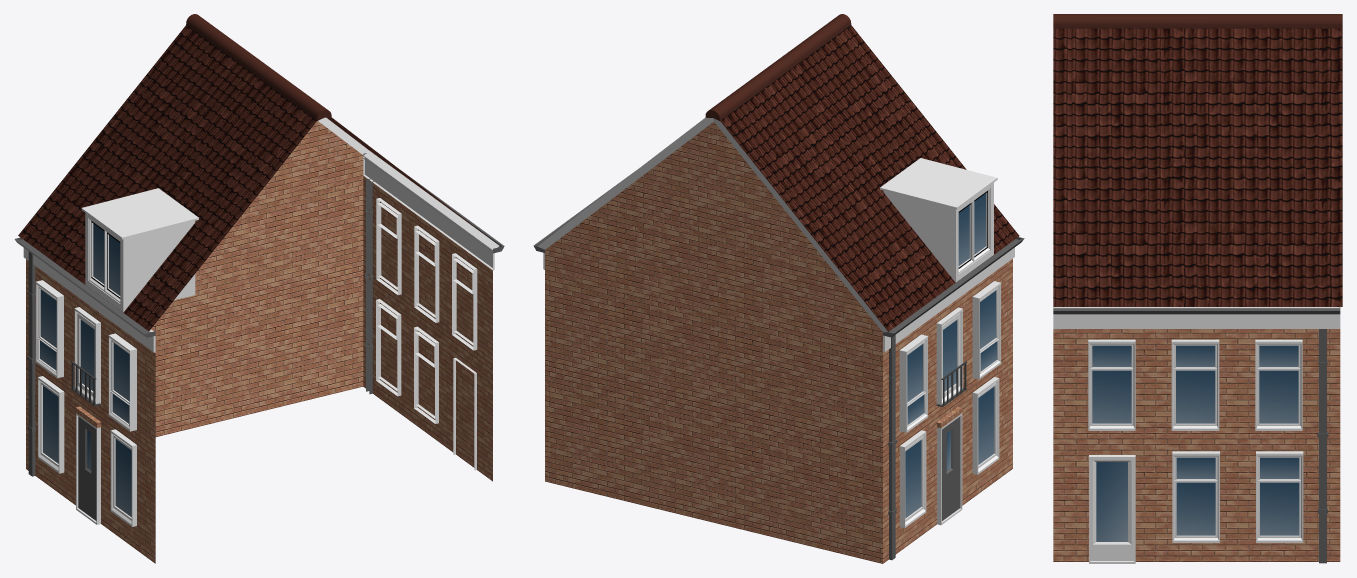
Rendered from Buorkerij_39.fbx.
3 renders of one model, left to right at view 1: azimuth 30°, elevation 25°; view 2: azimuth 150°, elevation 25°; view 3: azimuth 270°, elevation 25°, orthographic. The views are drawn at different scales.
Parts seen in each view (by area): view 1: Buorkerij_39; view 2: Buorkerij_39; view 3: Buorkerij_39.
Boxes of the visible parts, box(x1,y1,x2,y2) form: Buorkerij_39: box(14, 14, 504, 563); Buorkerij_39: box(533, 14, 1024, 563); Buorkerij_39: box(1053, 14, 1342, 563).
Bounding box in the file's own units: 9.29 × 10.17 × 5.85.
